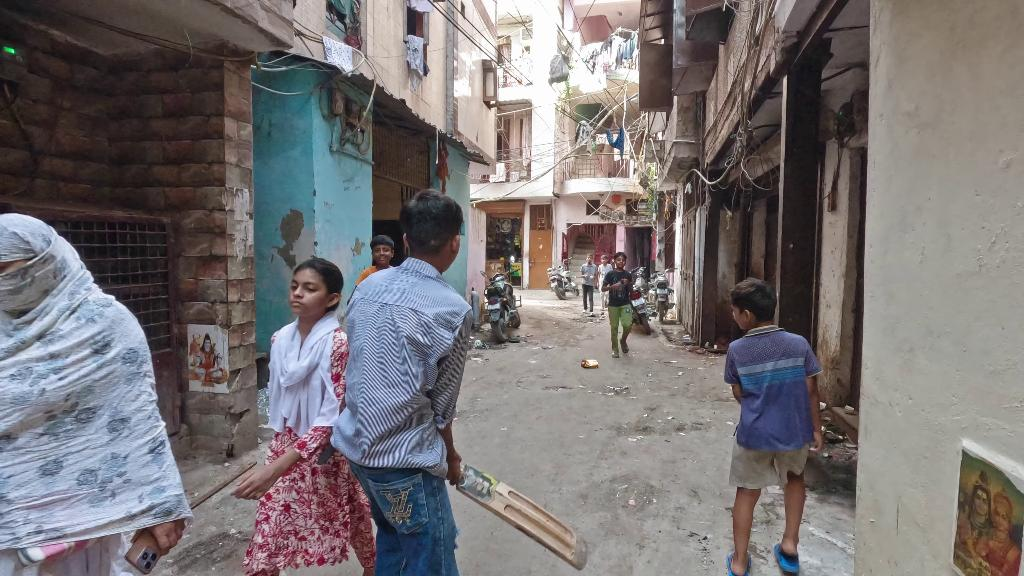garbage: (583, 356, 607, 373)
